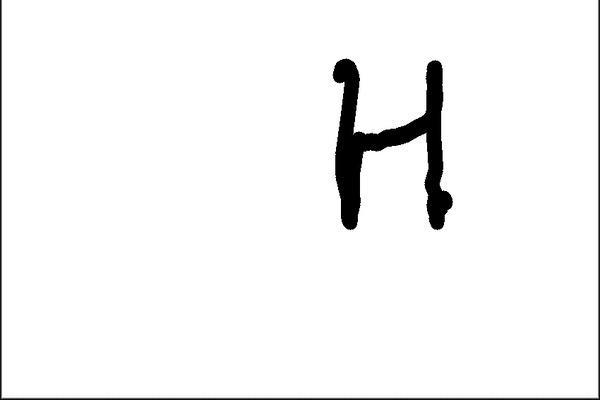H: (325, 45, 455, 235)
